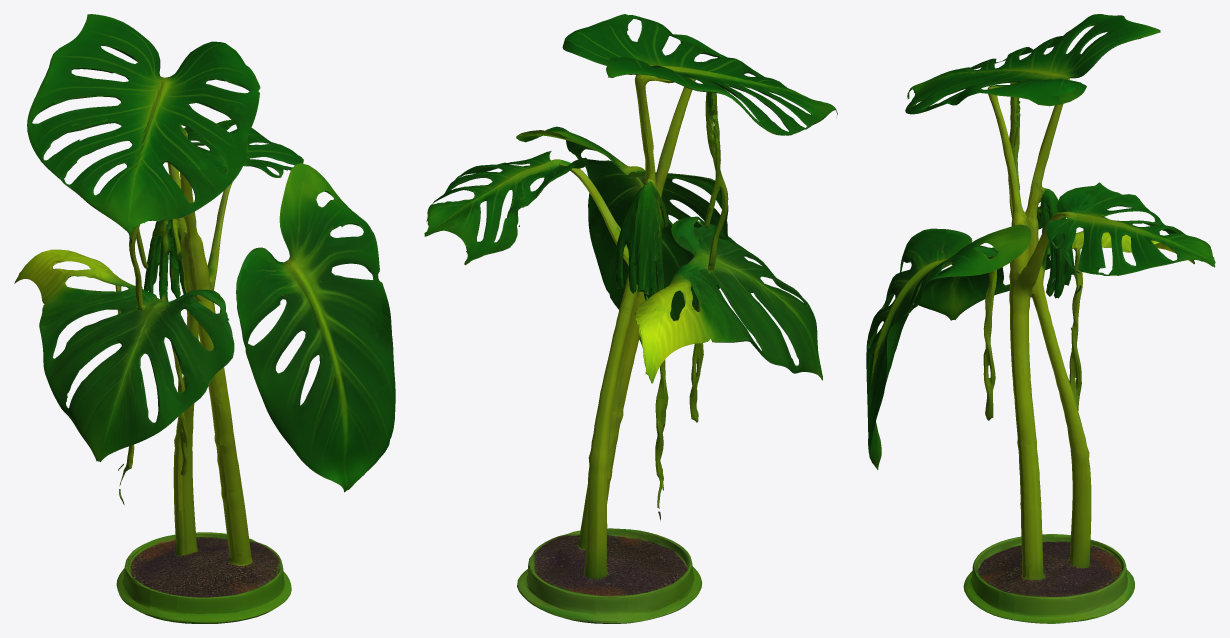
Rendered from veg_tropical_monstera_01.glb.
3 renders of one model, left to right at view 1: azimuth 30°, elevation 25°; view 2: azimuth 150°, elevation 25°; view 3: azimuth 270°, elevation 25°, orthographic. The views are drawn at different scales.
Parts seen in each view (by area): view 1: veg_tropical_monstera_01; view 2: veg_tropical_monstera_01; view 3: veg_tropical_monstera_01.
Part boxes in pixels (box(x1,y1,x2,y2)): veg_tropical_monstera_01: box(14, 14, 395, 623); veg_tropical_monstera_01: box(424, 14, 837, 623); veg_tropical_monstera_01: box(866, 14, 1215, 623).
Size of the model in its own units: 1.68 by 3.02 by 1.8.
Materials: 1 (1 with a texture image).
